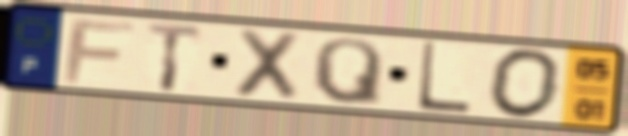F: (60, 18, 139, 86)
L: (414, 39, 475, 116)
O: (486, 46, 565, 122)
Q: (310, 35, 385, 109)
T: (143, 20, 206, 94)
X: (228, 25, 306, 105)
